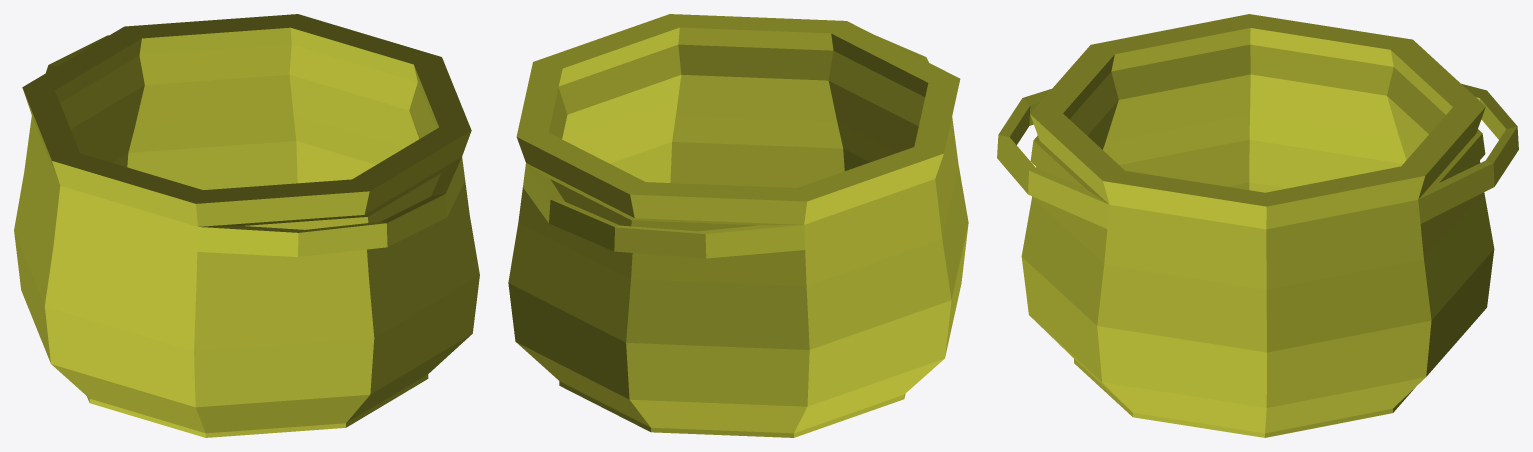
Rendered from Pot 1.fbx.
3 views of the same model, side by side, from view 1: azimuth 30°, elevation 25°; view 2: azimuth 150°, elevation 25°; view 3: azimuth 270°, elevation 25° (orthographic).
Visible parts, largest first — view 1: Node 0; view 2: Node 0; view 3: Node 0.
Boxes of the visible parts, x1,y1,x2,y2 form: Node 0: (14,14,479,437); Node 0: (508,14,968,437); Node 0: (997,14,1518,437).
Bounding box in the file's own units: 0.6186 × 0.3268 × 0.5603.
